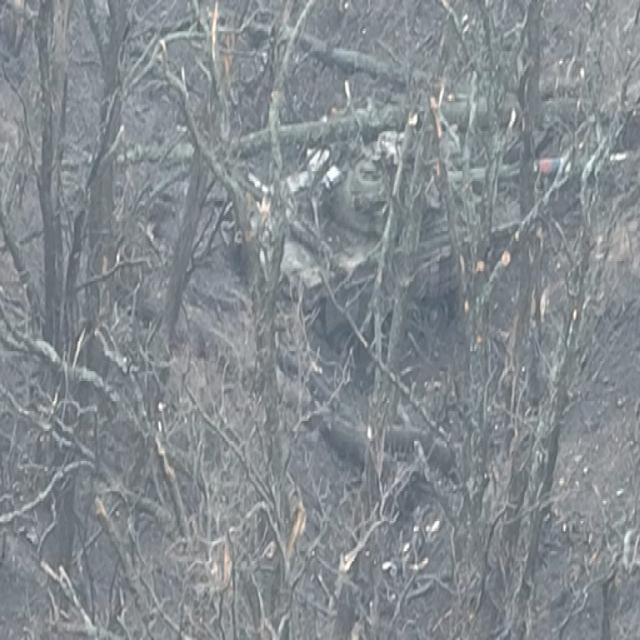TANK: (251, 113, 624, 344)
